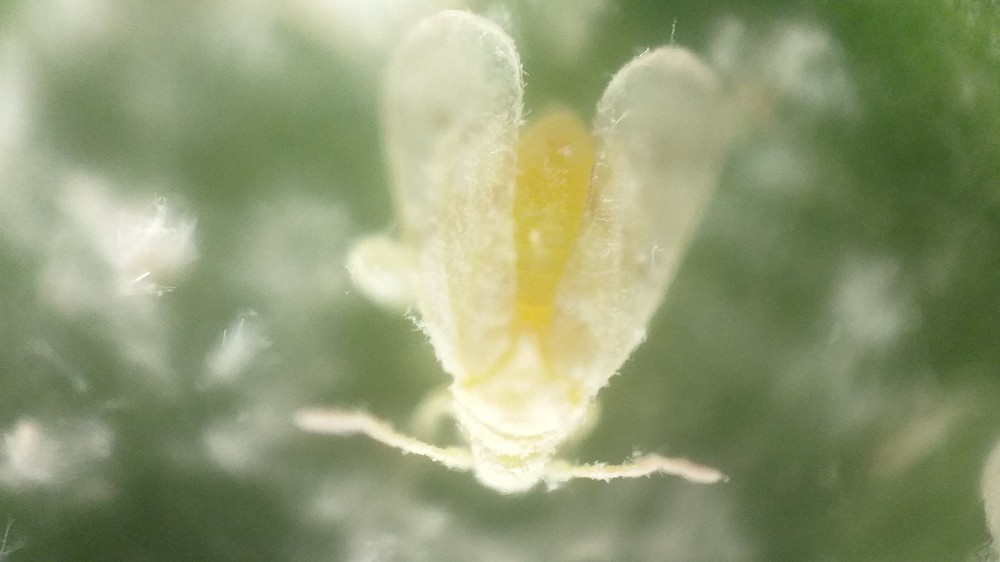Mosca Blanca: (289, 21, 749, 514)
